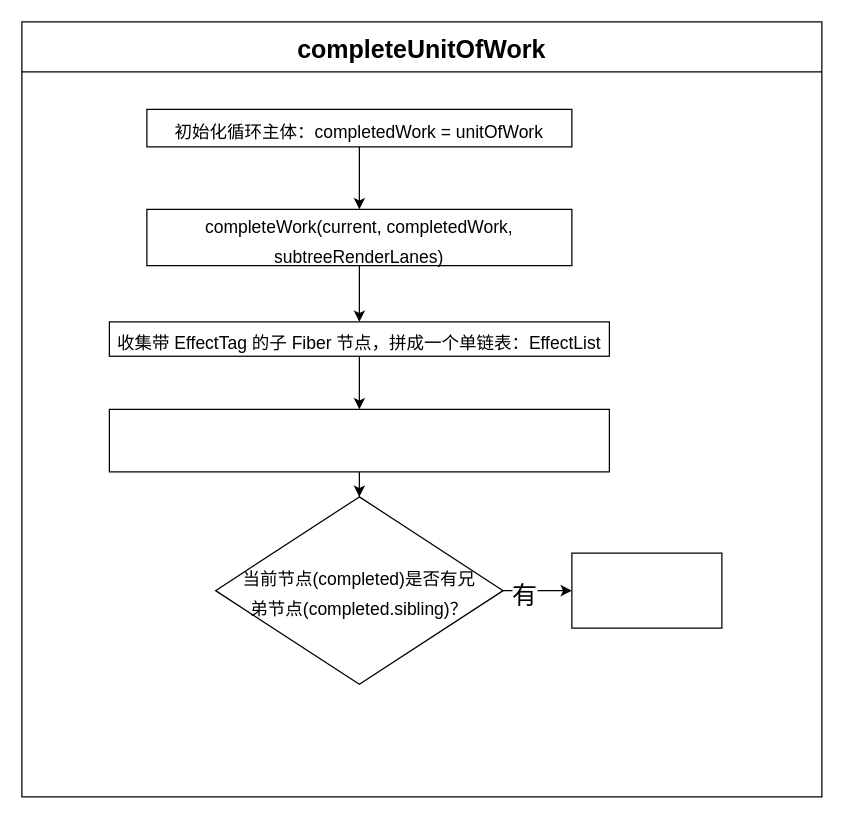
The diagram is 844 pixels wide and 819 high, and some of its shapes have lost their labels. Each missing label, with the centre of its shape:
"workInProgress = siblingFiber" belongs at (646,590).
"若当前节点(completedWork)也有 EffectTag ，则将本节点挂载在 EffectList 的末尾" belongs at (358,440).
